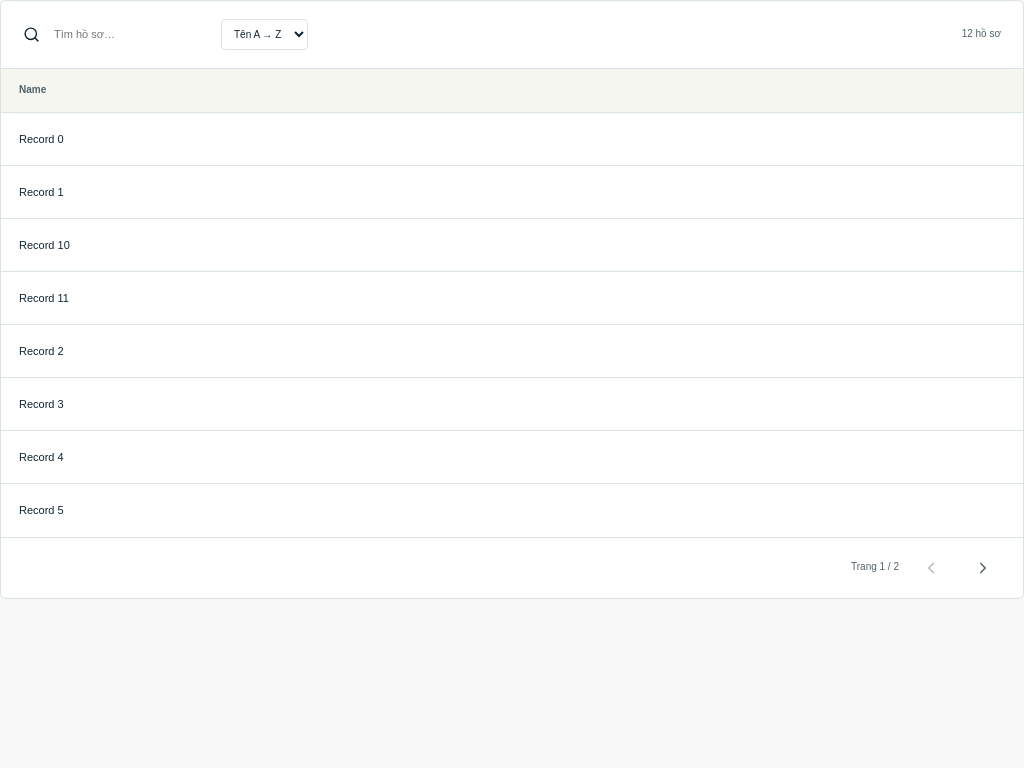
UI components › table search and pagination change visible rows
The width and height of the screenshot is (1024, 768).
Type "Record 11" into the field named "Tìm trong bảng".
click(125, 34); type("Record 11")  # box left=49, top=20, right=201, bottom=48
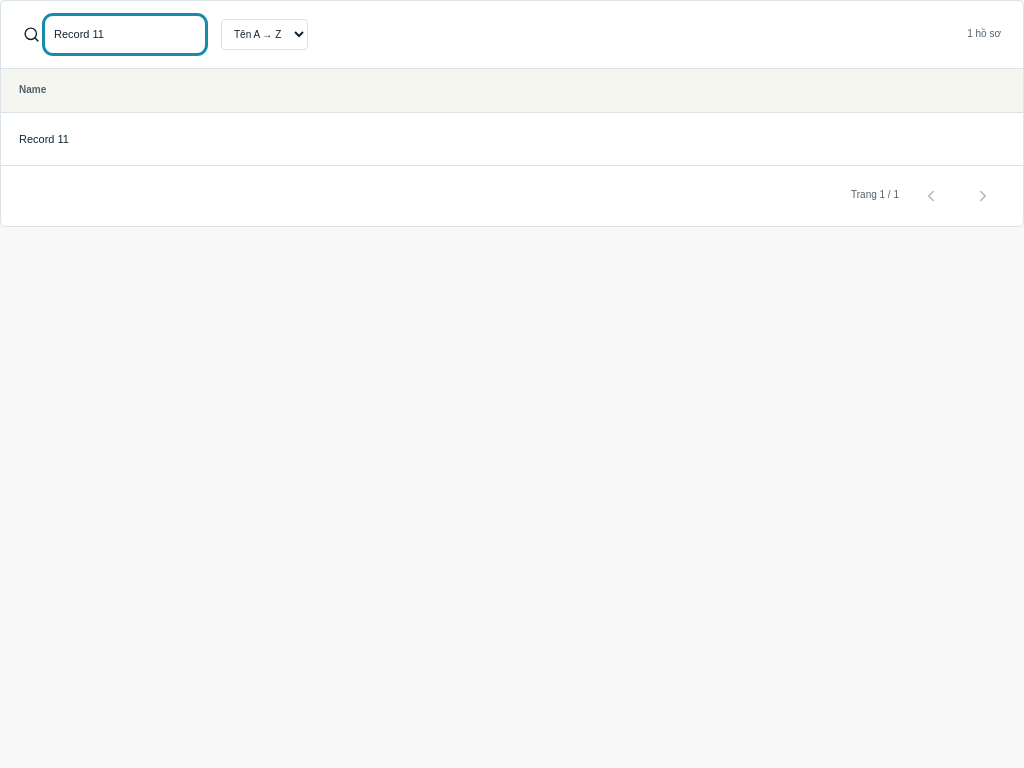
Expected: the text "Record 11" is shown, left=1, top=112, right=1023, bottom=165
Expected: the number of rows is 2, left=1, top=69, right=1023, bottom=112; left=1, top=112, right=1023, bottom=165
